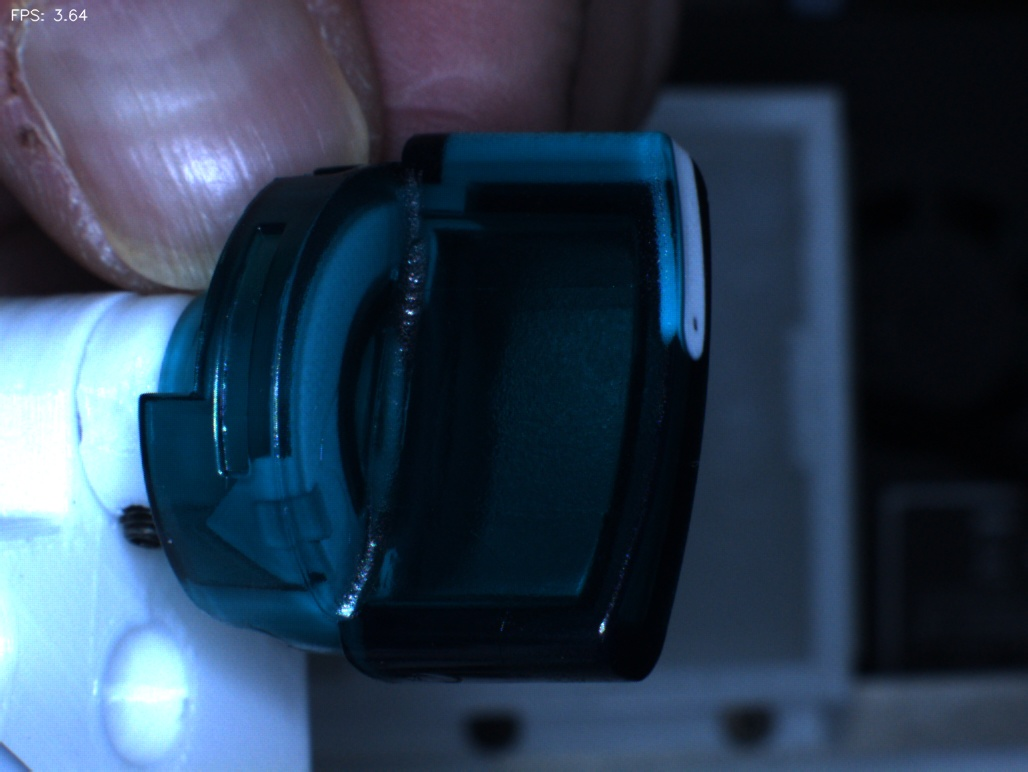PointNoir: (647, 272, 740, 365)
